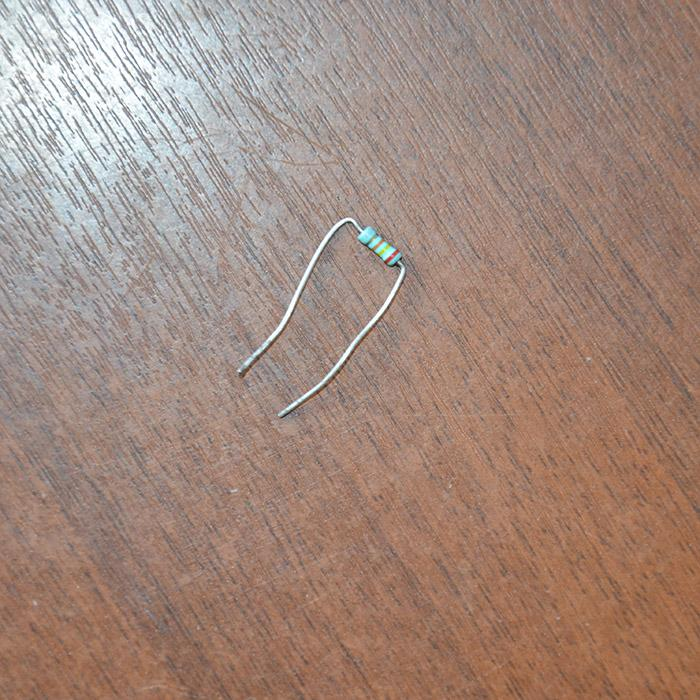resistor: (356, 225, 401, 267)
